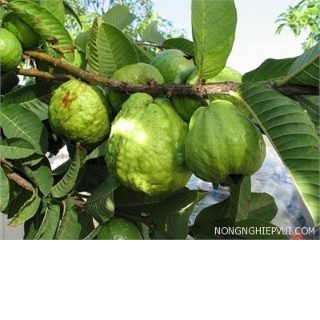oi: (101, 83, 201, 203), (182, 96, 272, 196), (44, 70, 120, 151)
